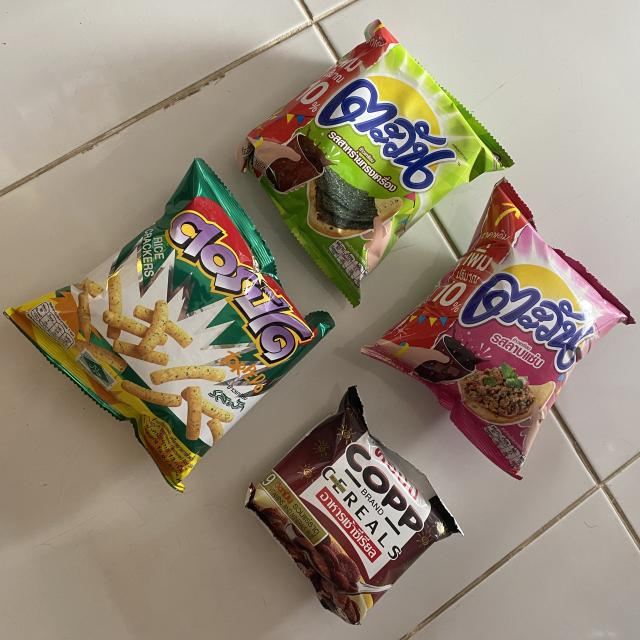plastik: (5, 159, 334, 490), (361, 180, 634, 479), (238, 20, 512, 306), (246, 388, 459, 624)
